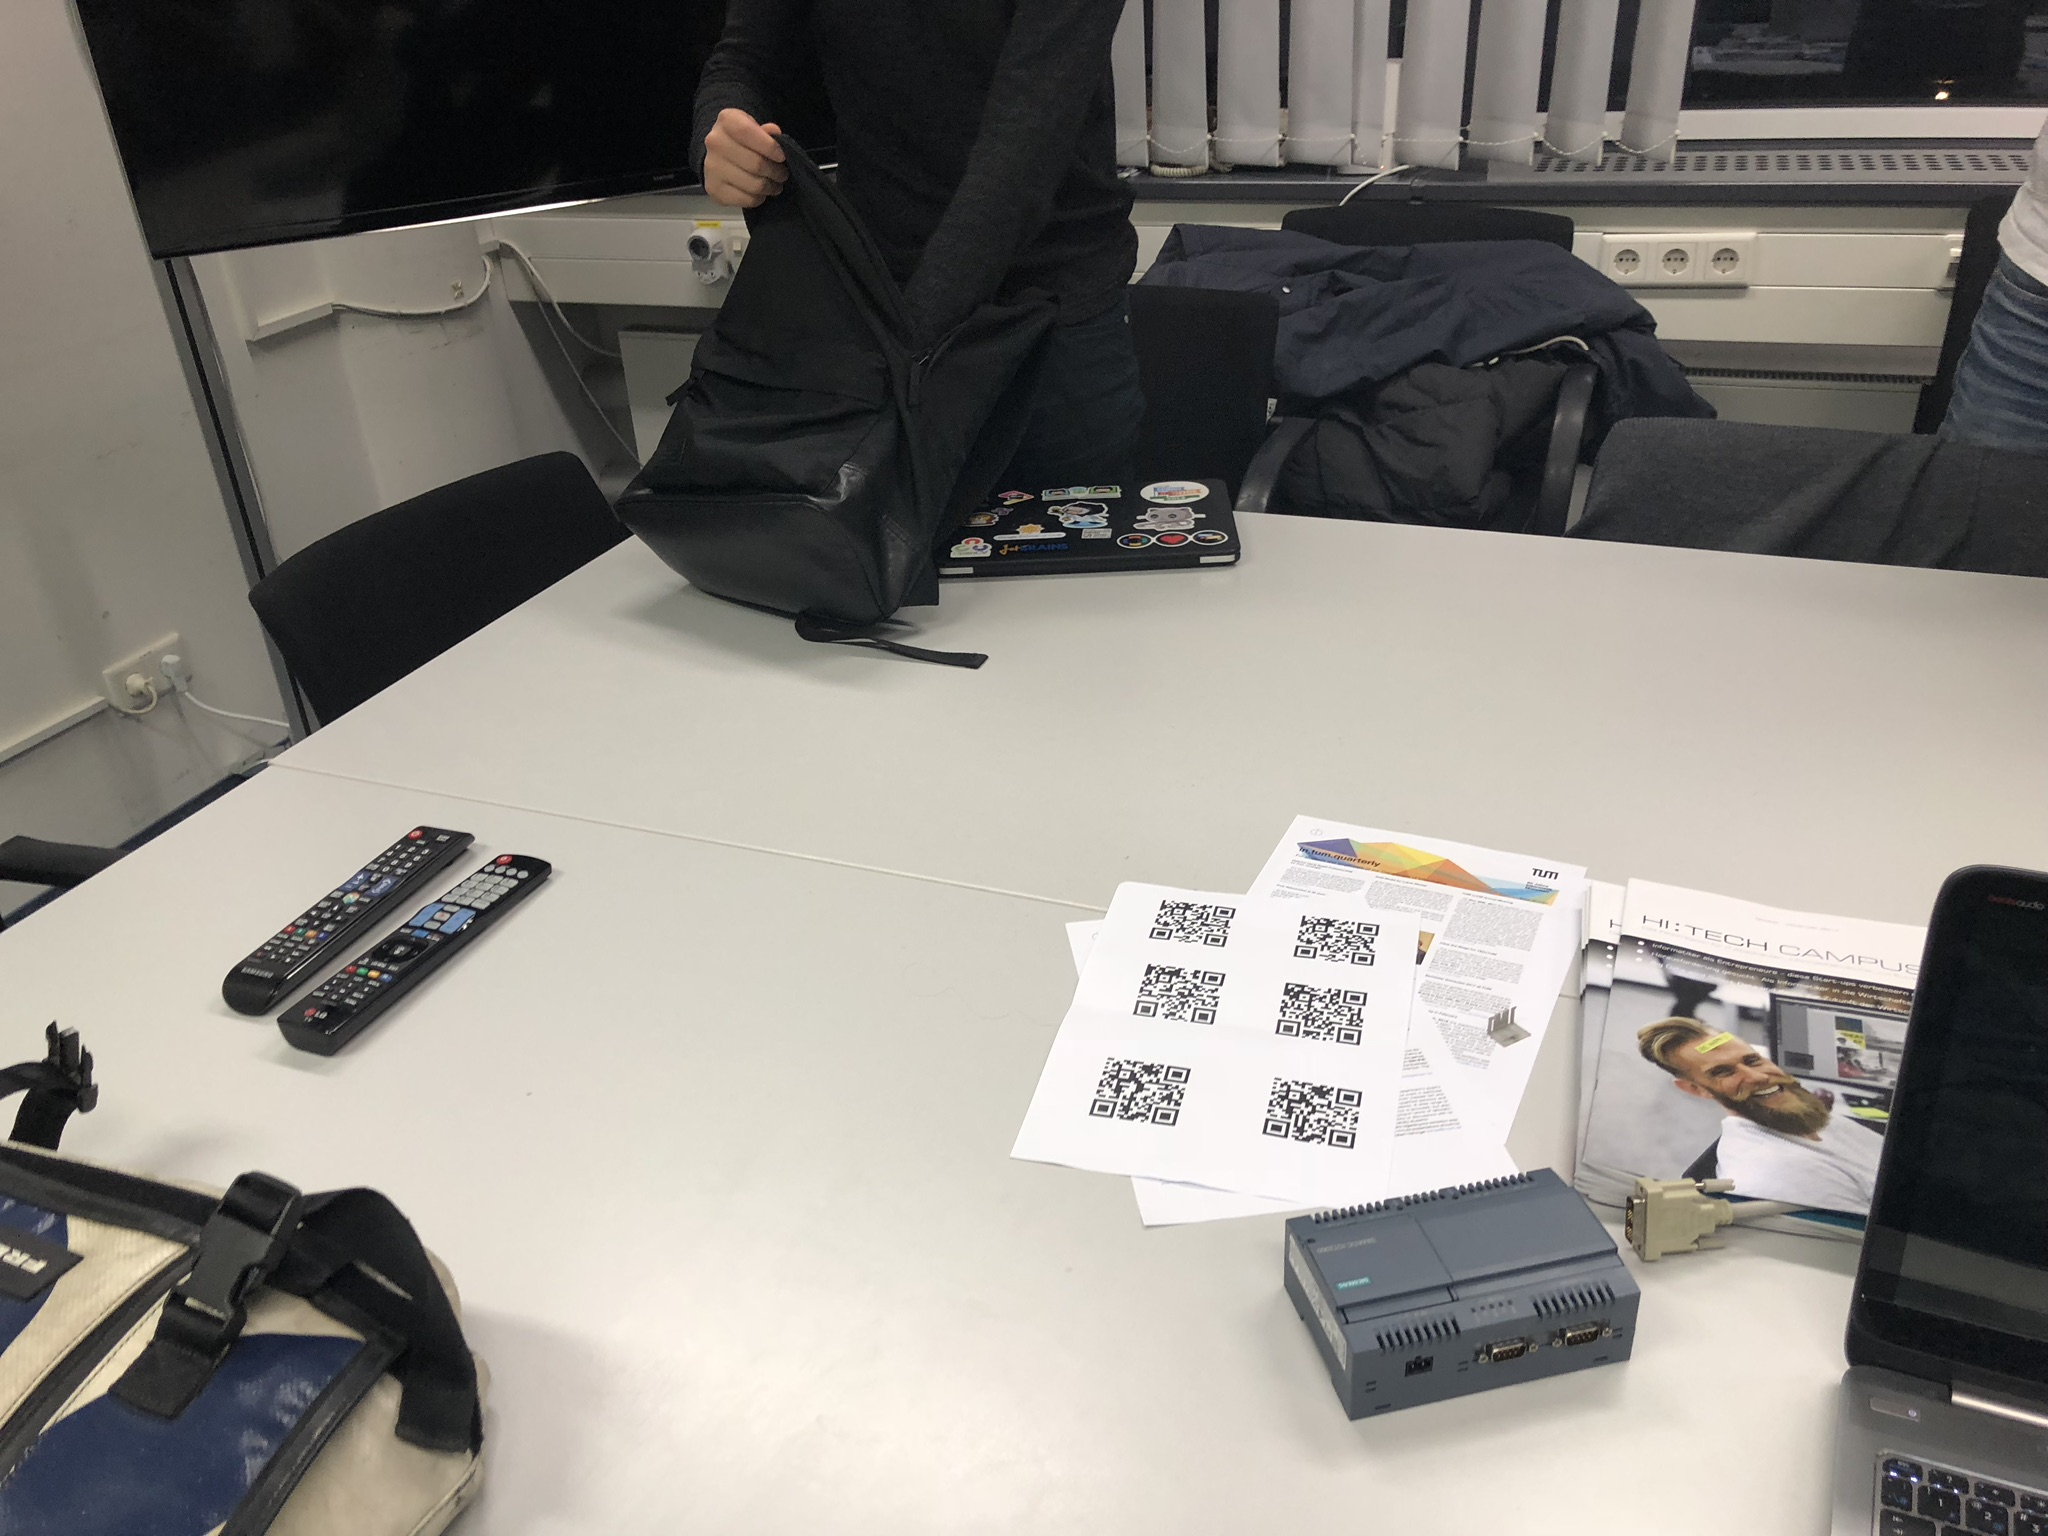device: (1284, 1167, 1642, 1421)
